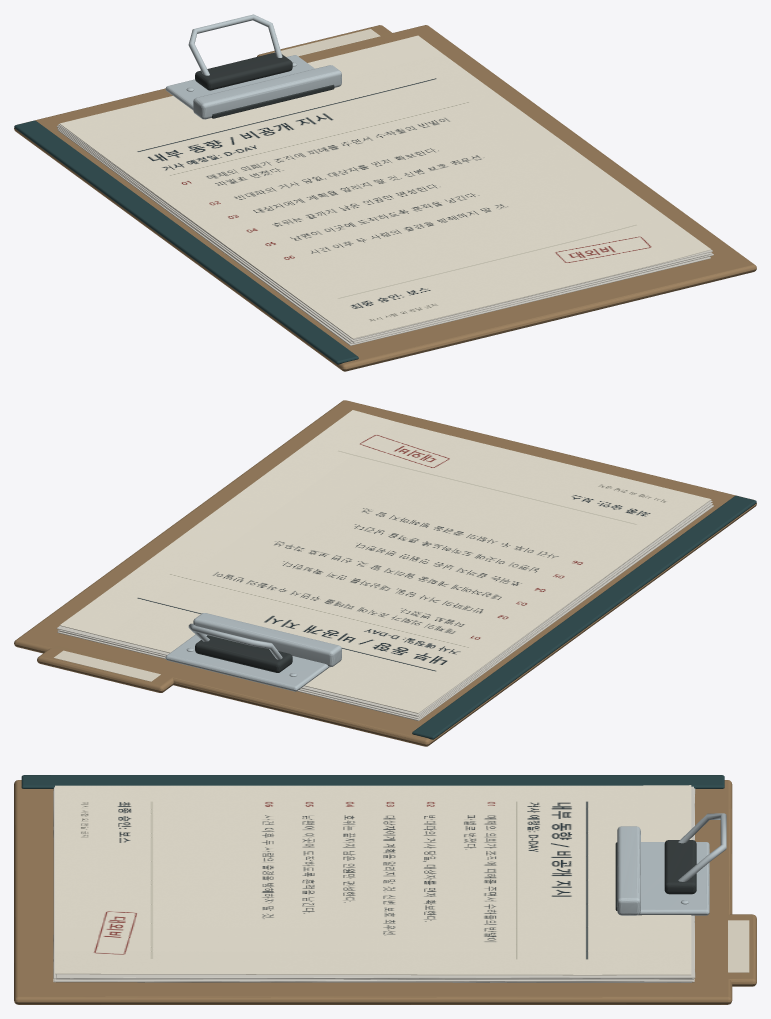
Rendered from SM_Collectible_Dossier.glb.
The picture shows the model from 3 angles, top to bottom: view 1: azimuth 30°, elevation 25°; view 2: azimuth 150°, elevation 25°; view 3: azimuth 270°, elevation 25°; orthographic projection. The views are drawn at different scales.
Parts seen in each view (by area): view 1: SM_Collectible_Dossier; view 2: SM_Collectible_Dossier; view 3: SM_Collectible_Dossier.
Boxes of the visible parts, x1,y1,x2,y2 form: SM_Collectible_Dossier: (14,14,756,371); SM_Collectible_Dossier: (14,400,756,746); SM_Collectible_Dossier: (14,775,756,1004).
Bounding box in the file's own units: 0.2435 × 0.0346 × 0.3455.
Materials: 7 (1 with a texture image).
